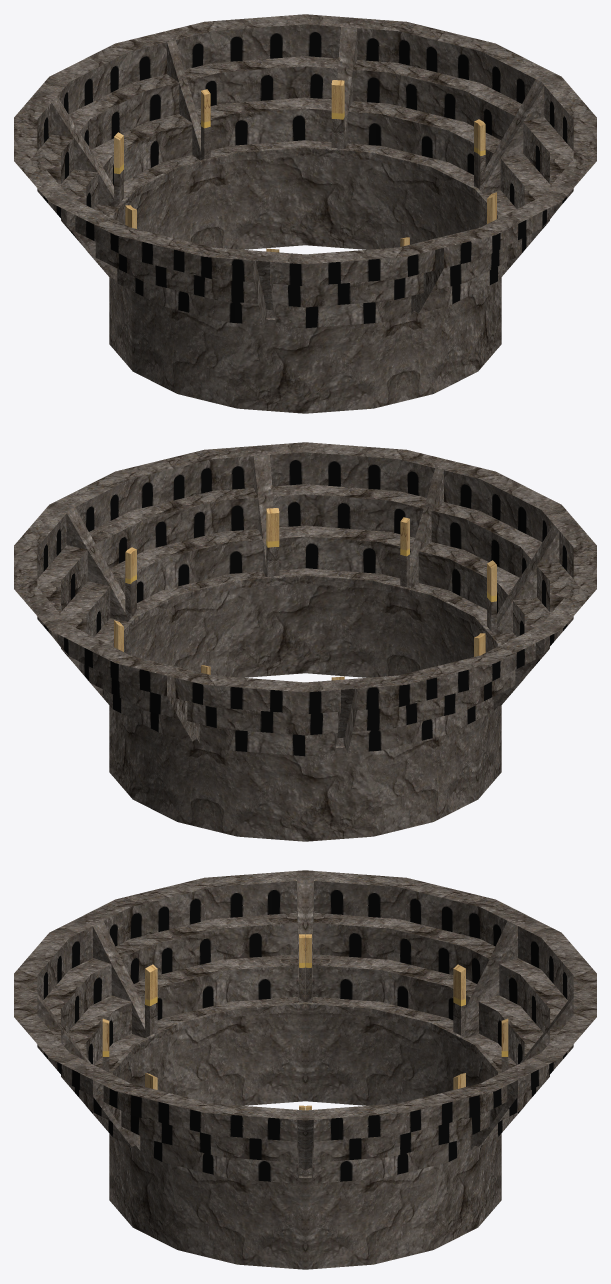
The model's file is Grada.FBX.
3 renders of one model, top to bottom at view 1: azimuth 30°, elevation 25°; view 2: azimuth 150°, elevation 25°; view 3: azimuth 270°, elevation 25°, orthographic.
Parts seen in each view (by area): view 1: Cylinder001; view 2: Cylinder001; view 3: Cylinder001.
Part boxes in pixels (bbox=[...]): Cylinder001: bbox=[14, 14, 596, 413]; Cylinder001: bbox=[14, 442, 596, 841]; Cylinder001: bbox=[14, 870, 596, 1269].
Bounding box in the file's own units: 3925 × 1391 × 3865.
